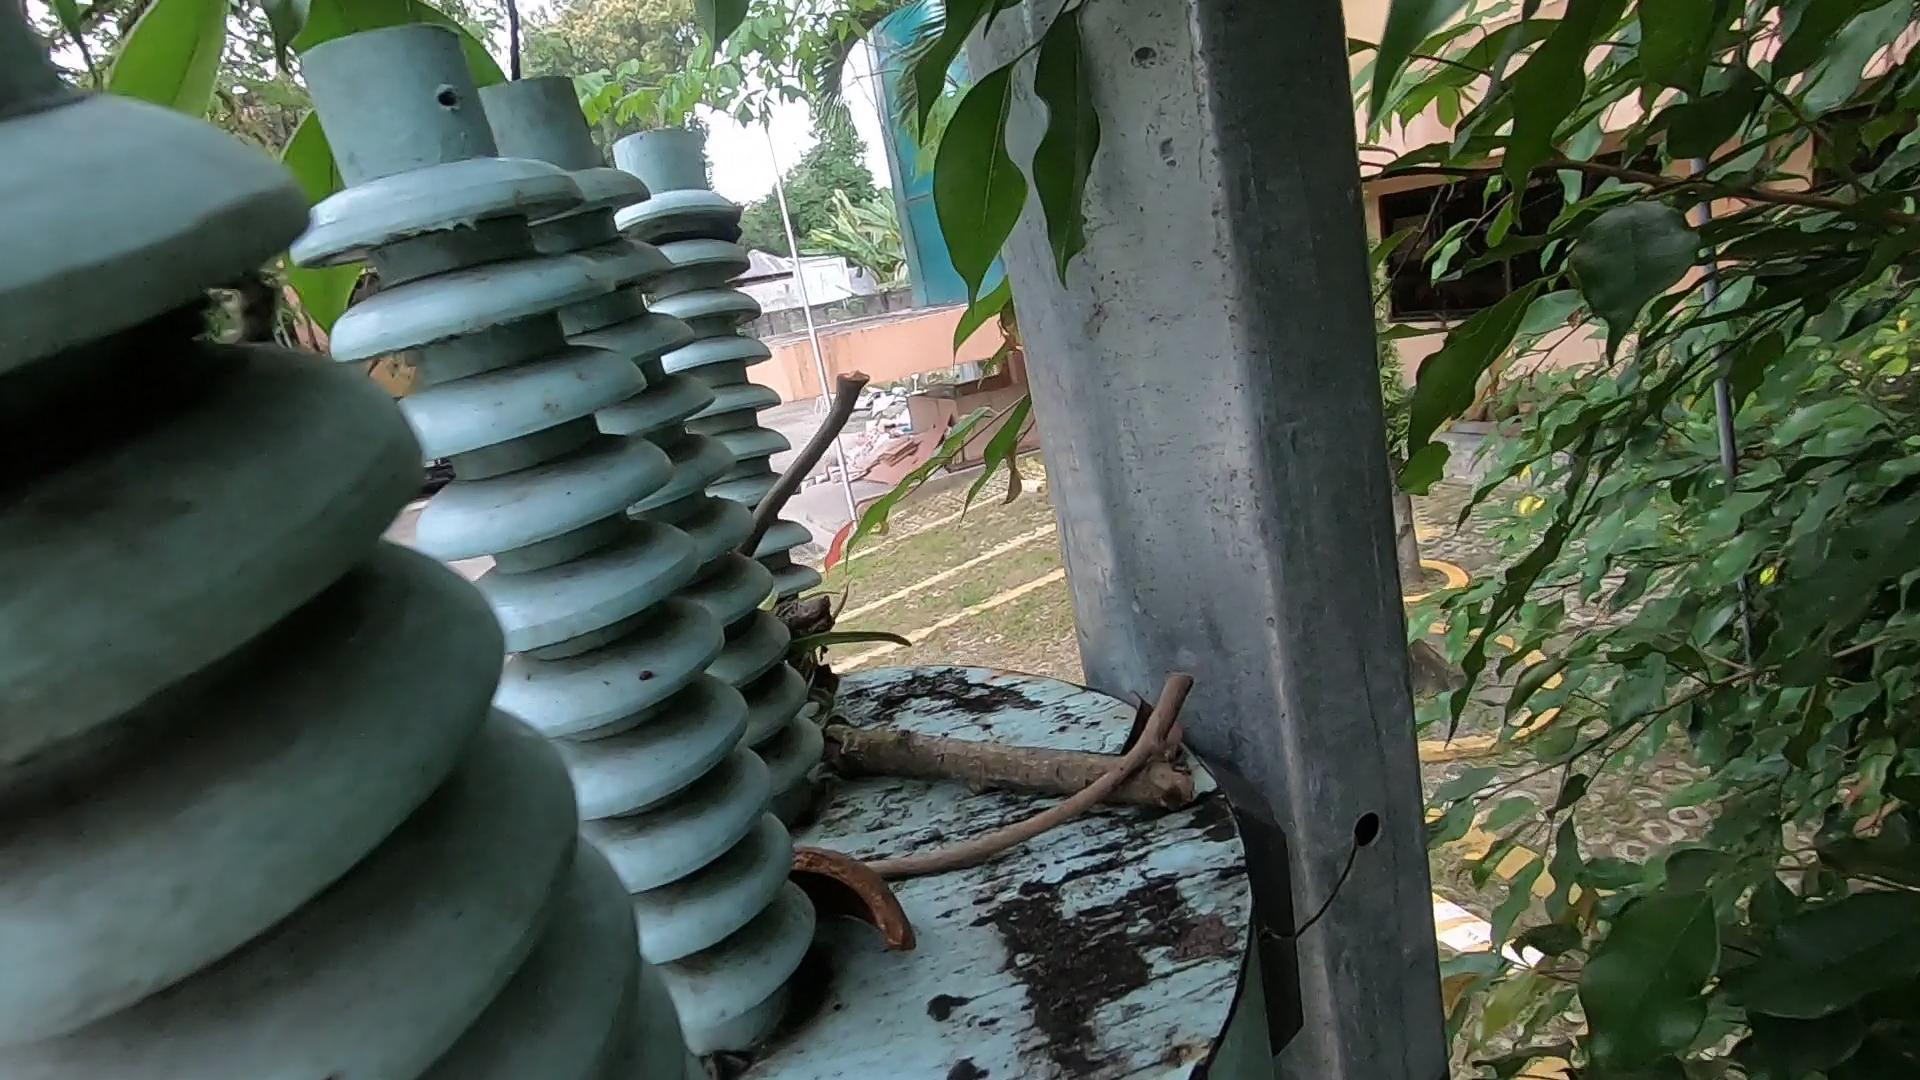branch with leaves: (796, 692, 1255, 800)
mahogany fruit: (799, 803, 972, 1001)
tree branch: (804, 657, 1211, 959), (764, 338, 887, 582)
